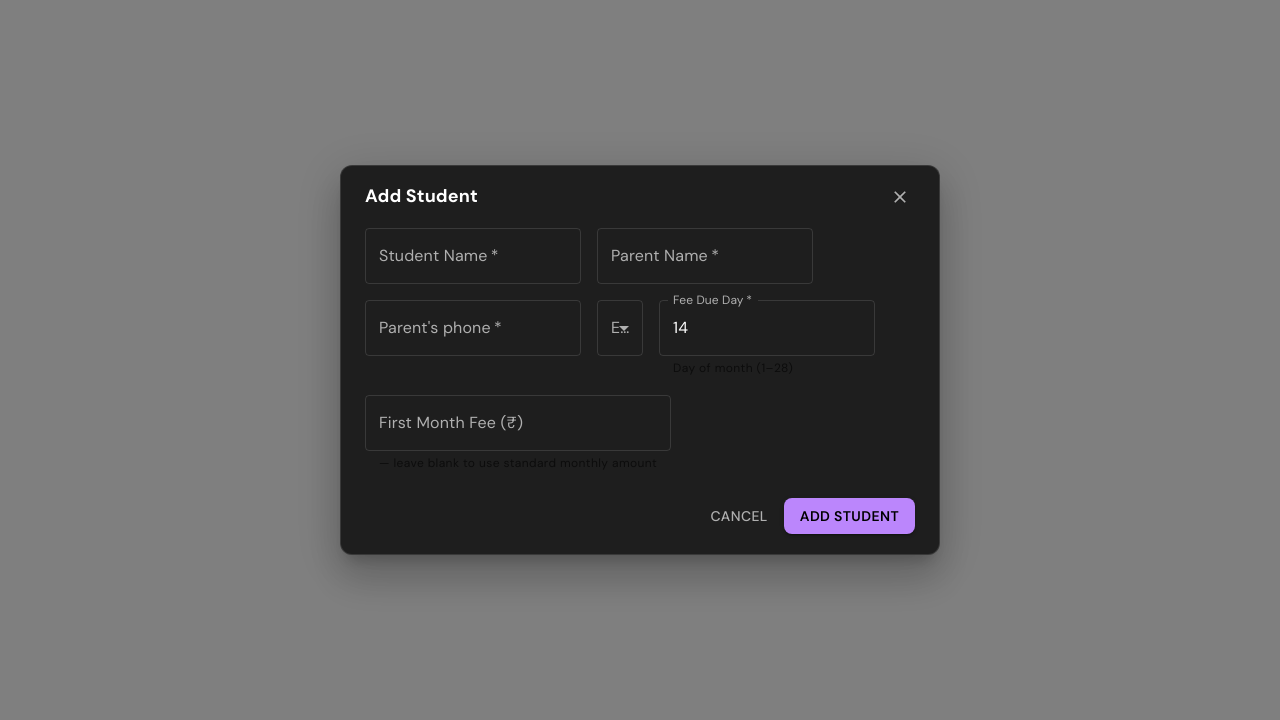
Scenario: AddStudentModal › shows validation error when name is empty
Click the button "Add Student". click: (849, 516)
box: [784,498,915,534]
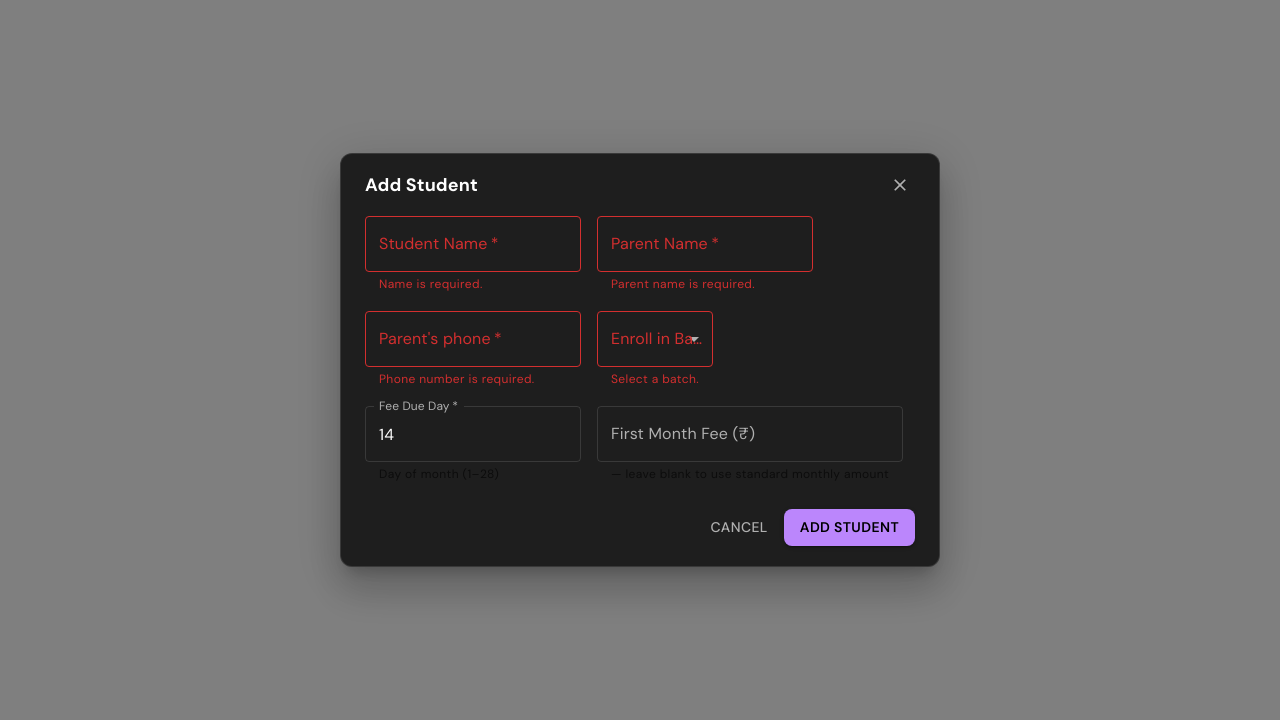
expect the text "Name is required." is shown: met, box [379,276,483,292]
